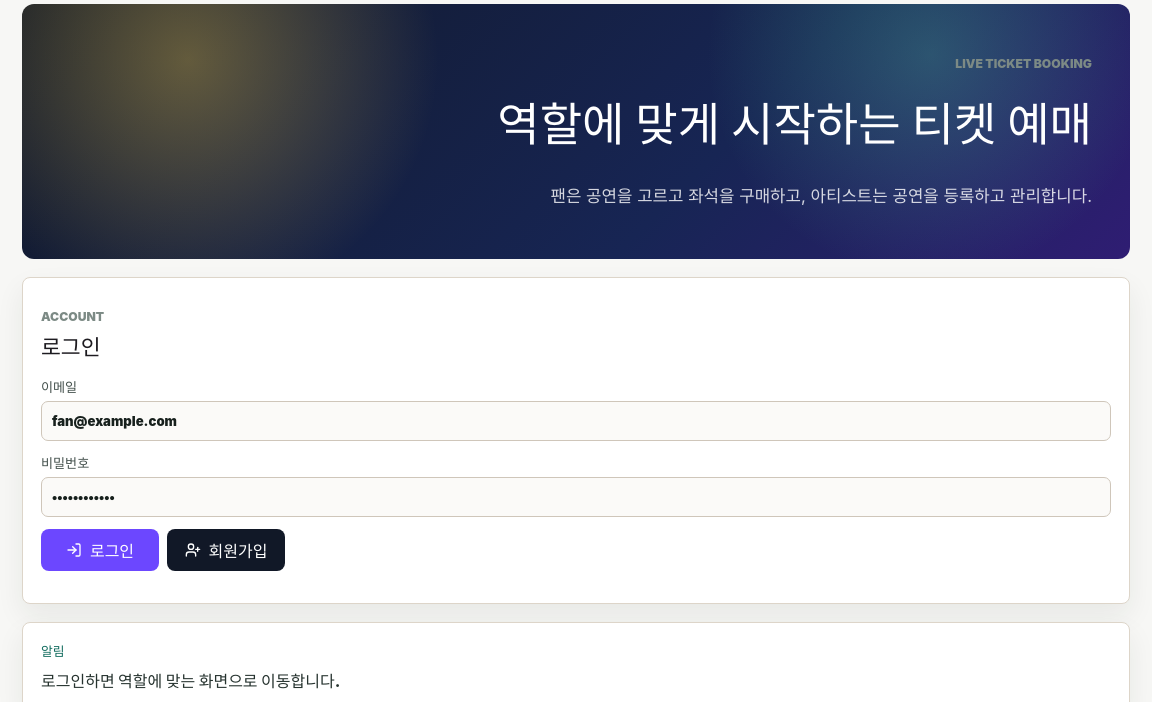
Scenario: Ticket frontend › routes ARTIST users to the artist home after login
This screenshot has width=1152, height=702.
Replace the text in the field labelled "이메일" with "artist@example.com" at point(576, 422), box left=41, top=402, right=1111, bottom=442
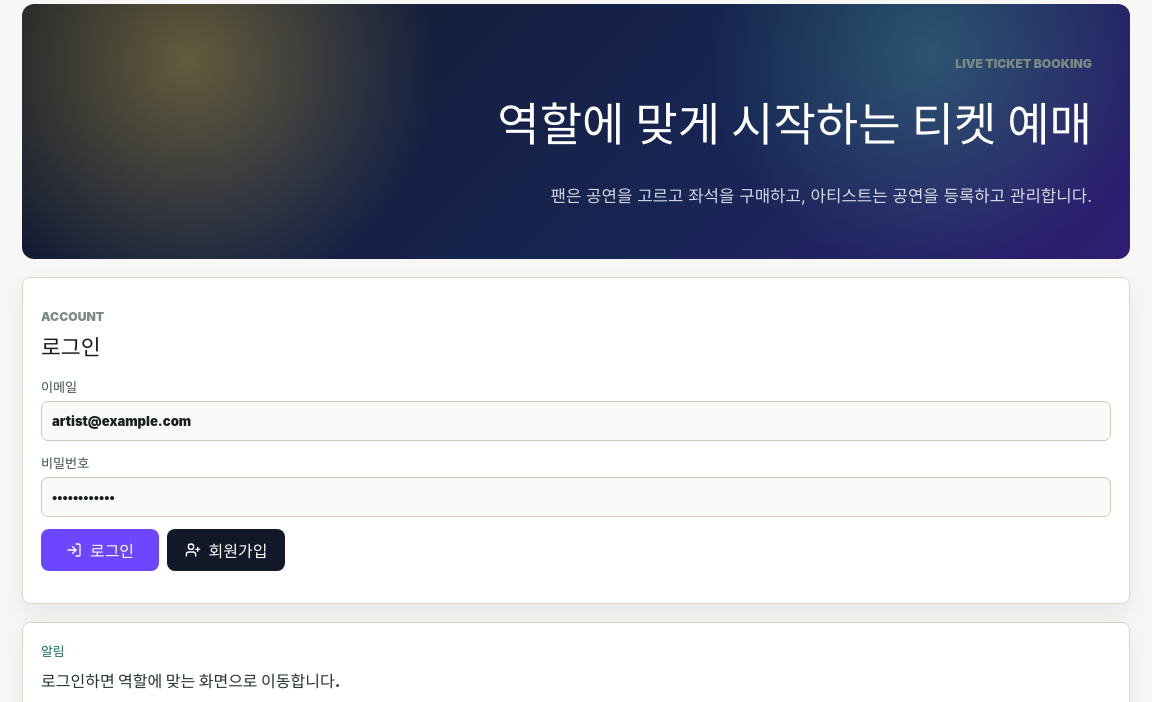
Click the button "로그인".
click(100, 550)  # box left=41, top=530, right=159, bottom=572
(page scrolled)
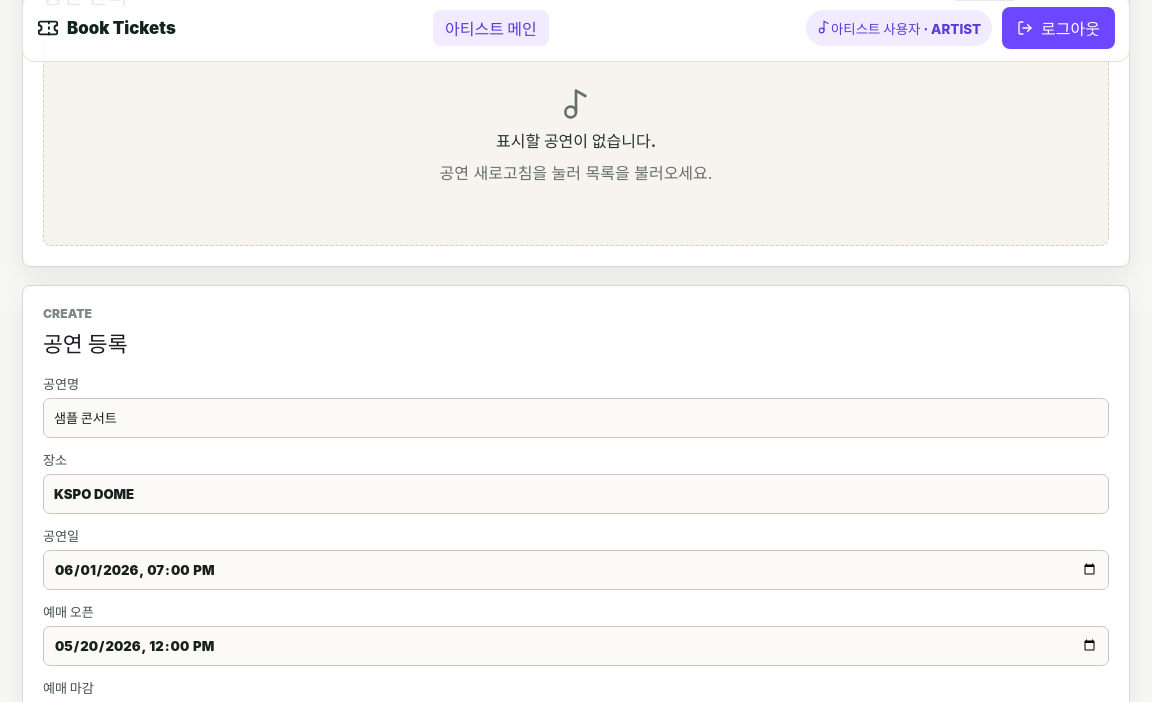
Now the heading "공연 등록" is shown, box left=43, top=327, right=128, bottom=358
